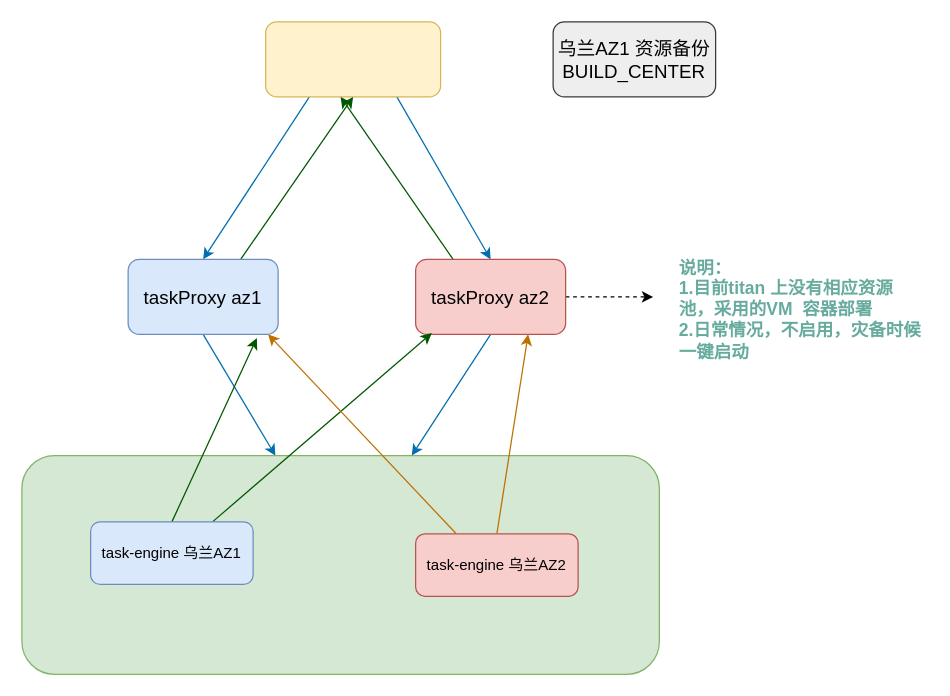
The diagram is 950 pixels wide and 696 high, and some of its shapes have lost their labels. Here are the shapes that lost their labels. From the top down, the box of each, then its label:
(264, 21, 441, 97): 北京资源池 BUILD_CENTER
(21, 454, 659, 674): 构建集群
